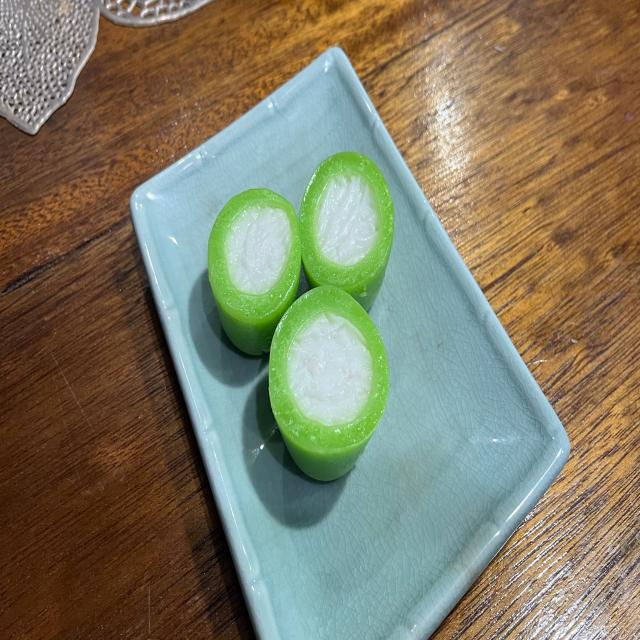nona-manis: (269, 284, 390, 480), (208, 189, 301, 356), (299, 151, 394, 311)
